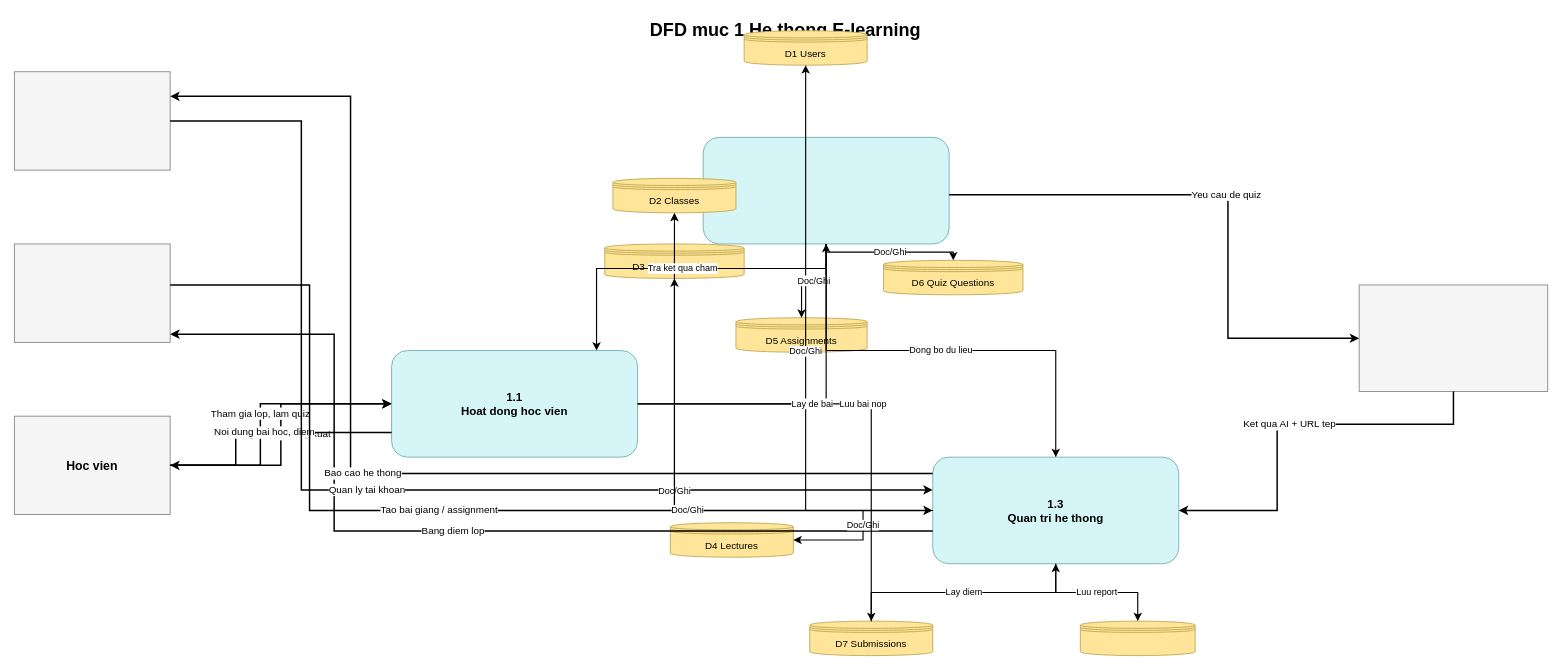
Some shapes in this 1562 by 670 pixel diagram are drawn without their labels. Here are the shapes that lost their labels. From the top down, the centre of each, then its label:
(x=92, y=120): Quan tri vien
(x=825, y=190): 1.2 Xu ly bai tap - quiz
(x=92, y=292): Giang vien
(x=1453, y=338): Dich vu AI + Cloud
(x=1137, y=638): D8 Reports
